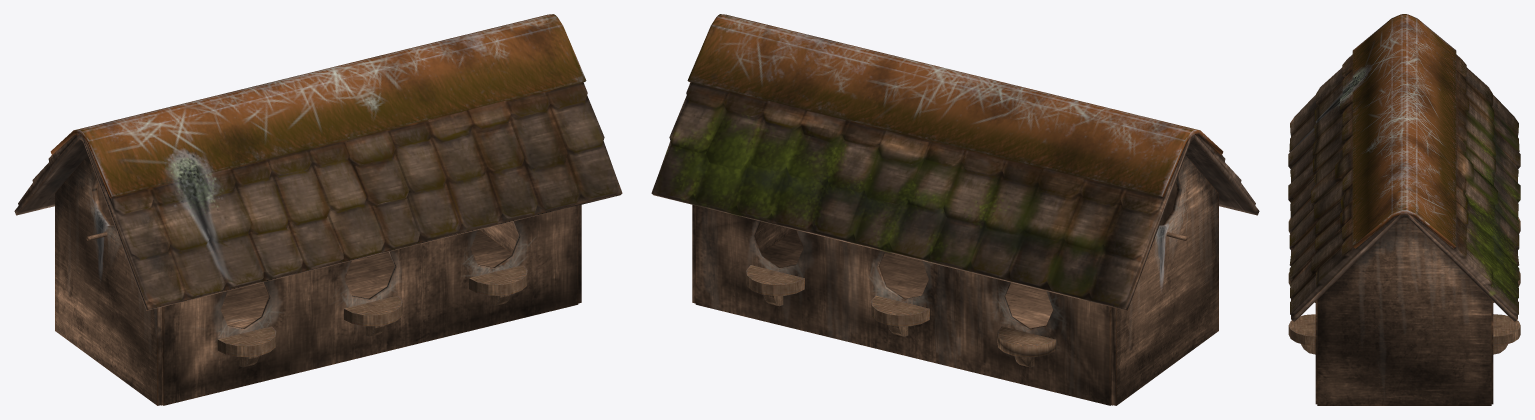
File: habitat-nestbox.glb
3 views of the same model, side by side, from view 1: azimuth 30°, elevation 25°; view 2: azimuth 150°, elevation 25°; view 3: azimuth 270°, elevation 25° (orthographic). The views are drawn at different scales.
Parts seen in each view (by area): view 1: Birdhouse_birdhouse_M_0; view 2: Birdhouse_birdhouse_M_0; view 3: Birdhouse_birdhouse_M_0.
Part boxes in pixels (box(x1,y1,x2,y2)): Birdhouse_birdhouse_M_0: box(14, 14, 622, 405); Birdhouse_birdhouse_M_0: box(651, 14, 1259, 405); Birdhouse_birdhouse_M_0: box(1288, 14, 1520, 405).
Bounding box in the file's own units: 3.86 × 1.9 × 1.93.
1 material, 1 textured.
